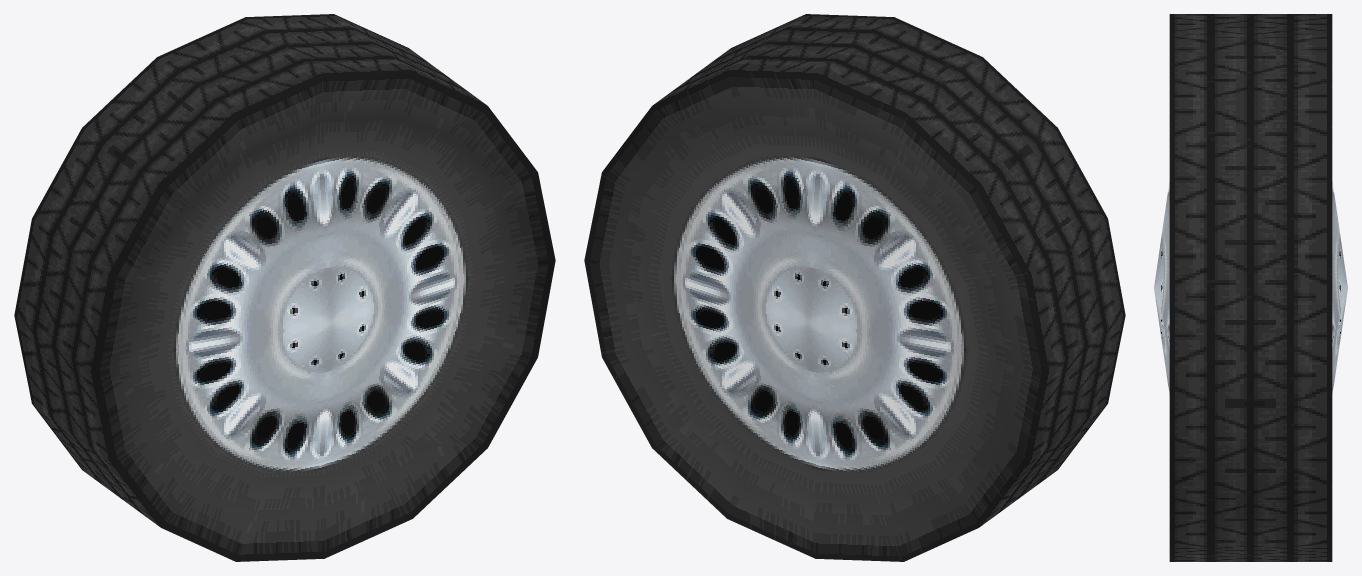
File: ps2_save-icons_londonracerworldchallenge.glb
3 views of the same model, side by side, from view 1: azimuth 30°, elevation 25°; view 2: azimuth 150°, elevation 25°; view 3: azimuth 270°, elevation 25° (orthographic). The views are drawn at different scales.
Visible parts, largest first — view 1: iconView.ico; view 2: iconView.ico; view 3: iconView.ico.
Part boxes in pixels (<box>): iconView.ico: <box>14,14,555,561</box>; iconView.ico: <box>584,14,1125,561</box>; iconView.ico: <box>1154,14,1347,561</box>.
Bounding box in the file's own units: 2.85 × 2.85 × 1.01.
Materials: 1 (1 with a texture image).
